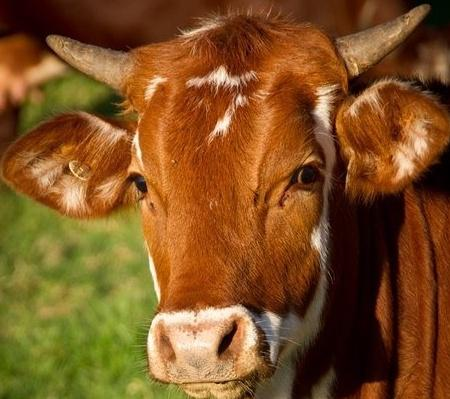muzzles: (138, 307, 292, 398)
